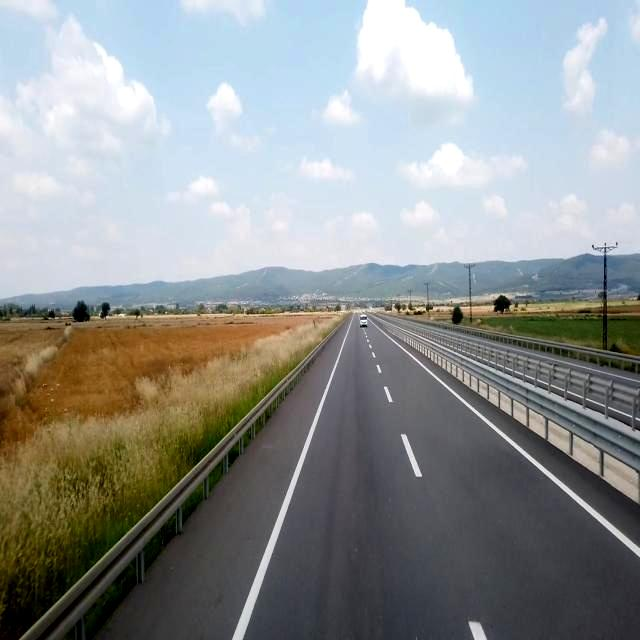lane: (380, 331, 640, 558), (231, 324, 351, 639), (402, 434, 422, 478)
road: (95, 315, 639, 639)
